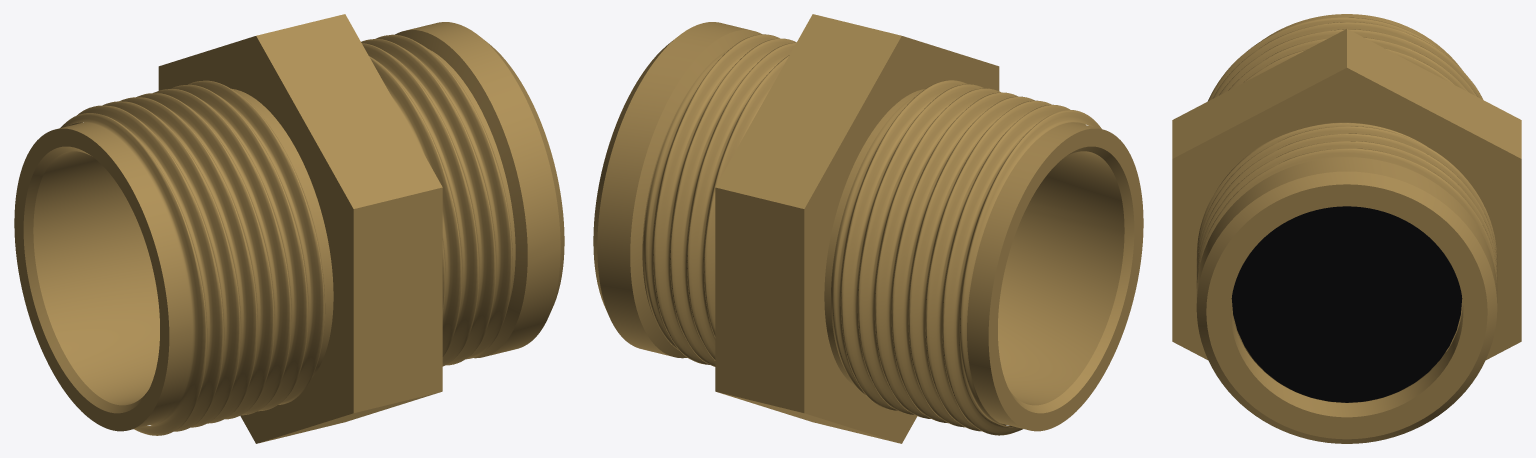
The picture shows the model from 3 angles, left to right: view 1: azimuth 30°, elevation 25°; view 2: azimuth 150°, elevation 25°; view 3: azimuth 270°, elevation 25°; orthographic projection. The views are drawn at different scales.
Parts seen in each view (by area): view 1: nipple; view 2: nipple; view 3: nipple.
Boxes of the visible parts, <box> form: nipple: <box>14,14,564,443</box>; nipple: <box>593,14,1143,443</box>; nipple: <box>1172,14,1521,443</box>.
Bounding box in the file's own units: 0.84 × 0.8314 × 0.72.
